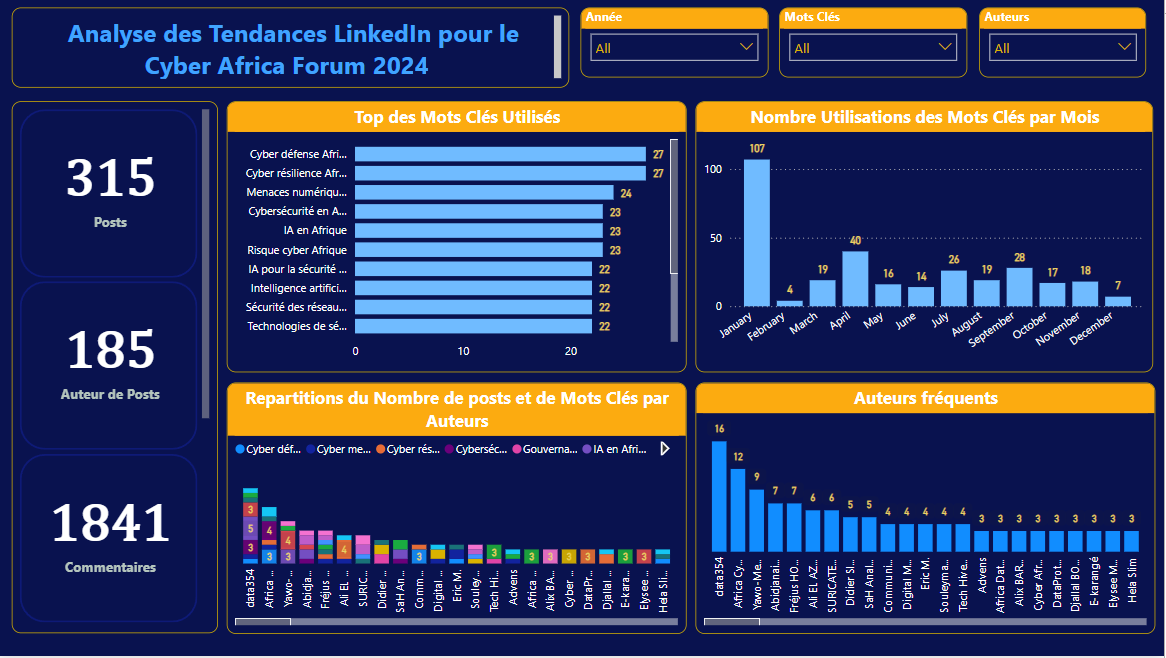

The dashboard page shown, as its layout file describes it:
{"tool":"powerbi","page":{"name":"Vue d'ensemble de l'analyse","canvas":[1280,720],"ordinal":0},"visuals":[{"type":"cardVisual","fields":{"Data":["linkedin_posts_cleaned.Content","linkedin_posts_cleaned.Auteur","linkedin_posts_cleaned.Commentaire","linkedin_posts_cleaned.Repost","linkedin_posts_cleaned.Like"]},"box":[15.4,111.3,226.2,583.9],"z":0},{"type":"barChart","title":"Top des Mots Clés Utilisés ","fields":{"Category":["linkedin_posts_cleaned.Keyword"],"Y":["linkedin_posts_cleaned.Content"]},"box":[251.1,111.3,504.5,297.3],"z":1000},{"type":"columnChart","title":"Nombre Utilisations des Mots Clés par Mois","fields":{"Category":["linkedin_posts_cleaned.Date.Variation.Date Hierarchy.Month"],"Y":["linkedin_posts_cleaned.Content"]},"box":[766.2,111.3,502.1,297.3],"z":2000},{"type":"columnChart","title":"Repartitions du Nombre de posts et de Mots Clés par Auteurs","fields":{"Category":["linkedin_posts_cleaned.Auteur"],"Y":["linkedin_posts_cleaned.Content"],"Series":["linkedin_posts_cleaned.Keyword"]},"box":[251.1,419.2,504.5,275.9],"z":3000},{"type":"textbox","box":[15.4,8.3,612.3,87.6],"z":4000},{"type":"slicer","title":"Année","fields":{"Values":["linkedin_posts_cleaned.Date.Variation.Date Hierarchy.Year","linkedin_posts_cleaned.Date.Variation.Date Hierarchy.Month","linkedin_posts_cleaned.Date.Variation.Date Hierarchy.Day"]},"box":[639.5,8.3,206.1,77],"z":5000},{"type":"slicer","title":"Mots Clés","fields":{"Values":["linkedin_posts_cleaned.Mots Clés"]},"box":[857.4,8.3,206.1,77],"z":6000},{"type":"slicer","title":"Auteurs","fields":{"Values":["linkedin_posts_cleaned.Auteur"]},"box":[1076.5,8.3,183.6,77],"z":7000},{"type":"columnChart","title":"Auteurs fréquents","fields":{"Category":["linkedin_posts_cleaned.Auteur"],"Y":["linkedin_posts_cleaned.Content"]},"box":[766.2,419.2,504.5,275.9],"z":7001}]}

Visuals, with their boxes in screenshot pixels (x1, y1, x2, y2), scaled from the page's 1280x720 canvas onto the 1166x658 screenshot:
cardVisual - linkedin_posts_cleaned.Content x linkedin_posts_cleaned.Auteur: x1=14 y1=102 x2=220 y2=635
"Top des Mots Clés Utilisés " barChart: x1=229 y1=102 x2=688 y2=373
"Nombre Utilisations des Mots Clés par Mois" columnChart: x1=698 y1=102 x2=1155 y2=373
"Repartitions du Nombre de posts et de Mots Clés par Auteurs" columnChart: x1=229 y1=383 x2=688 y2=635
textbox: x1=14 y1=8 x2=572 y2=88
"Année" slicer: x1=583 y1=8 x2=770 y2=78
"Mots Clés" slicer: x1=781 y1=8 x2=969 y2=78
"Auteurs" slicer: x1=981 y1=8 x2=1148 y2=78
"Auteurs fréquents" columnChart: x1=698 y1=383 x2=1158 y2=635
